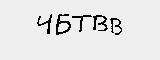Б: (55, 12, 71, 32)
В: (109, 14, 127, 36), (94, 13, 108, 32)
Т: (73, 15, 90, 32)
Ч: (37, 13, 52, 35)
